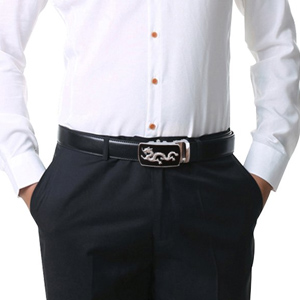F_belt: (52, 127, 239, 167)
F_dress pants: (29, 134, 255, 298)
F_shirt: (3, 1, 297, 198)
